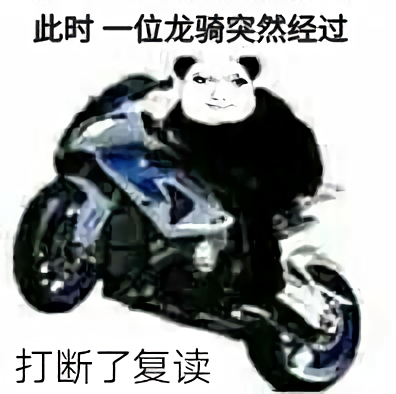dragon: (193, 69, 251, 112)
